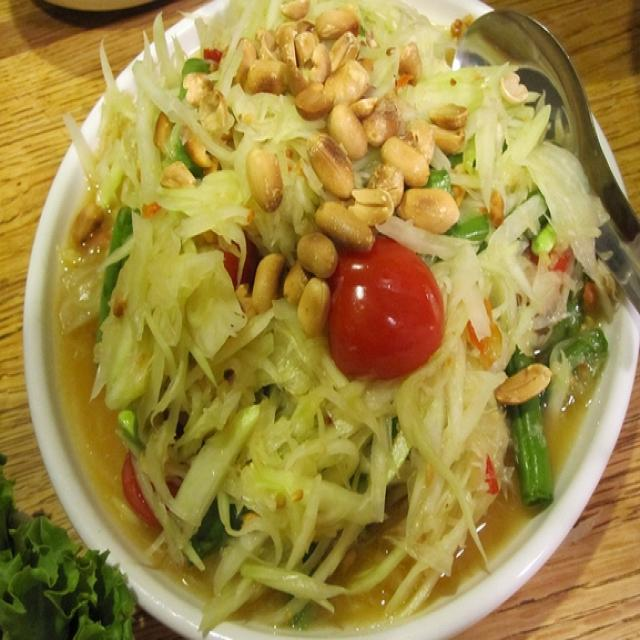蔬菜料理: (53, 13, 621, 621)
